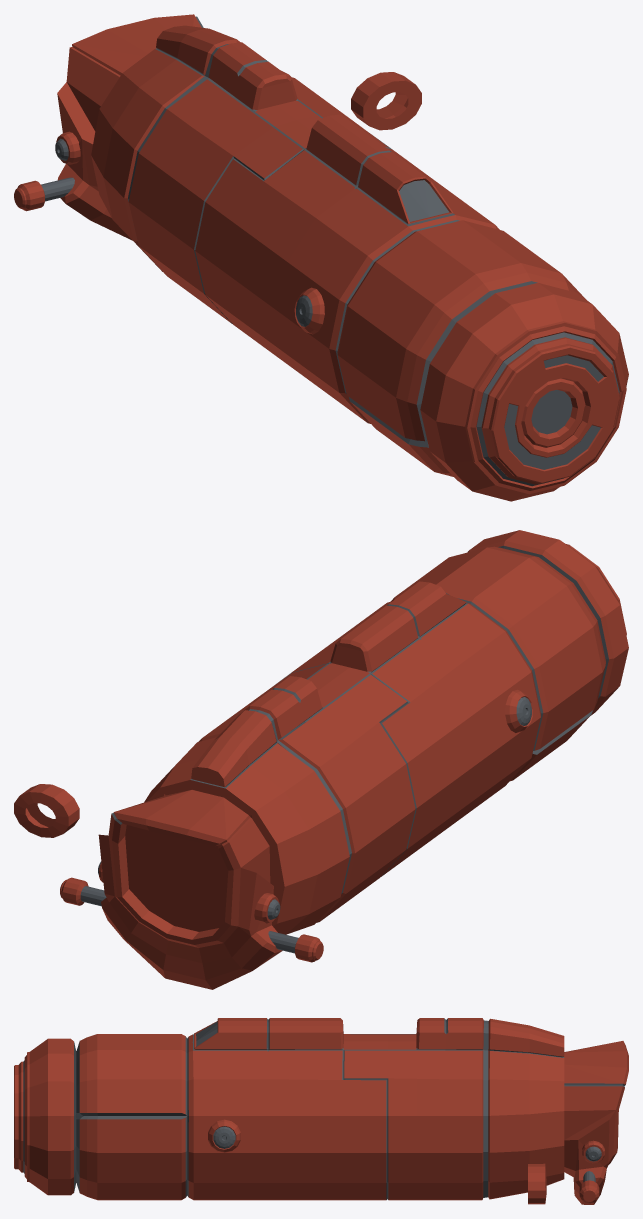
File: Personal_Vehicle_04_Base_Body_Red.fbx
3 renders of one model, top to bottom at view 1: azimuth 30°, elevation 25°; view 2: azimuth 150°, elevation 25°; view 3: azimuth 270°, elevation 25°, orthographic. The views are drawn at different scales.
Visible parts, largest first — view 1: Personal_Vehicle_04_Base_Body_Red; view 2: Personal_Vehicle_04_Base_Body_Red; view 3: Personal_Vehicle_04_Base_Body_Red.
Part boxes in pixels (<box>): Personal_Vehicle_04_Base_Body_Red: <box>14,14,628,501</box>; Personal_Vehicle_04_Base_Body_Red: <box>14,530,628,989</box>; Personal_Vehicle_04_Base_Body_Red: <box>14,1018,628,1204</box>.
Bounding box in the file's own units: 130 × 83.58 × 266.
2 materials, 2 textured.
